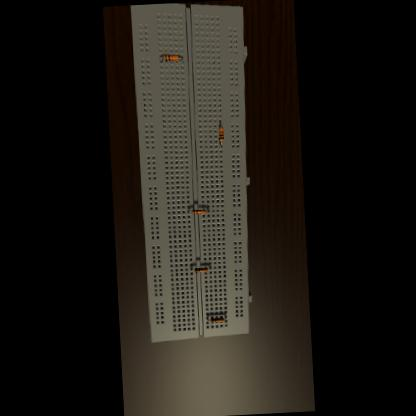breadboard: (129, 0, 261, 341)
resistor: (162, 53, 178, 61), (217, 125, 223, 140), (210, 316, 224, 322), (191, 208, 205, 213), (194, 266, 206, 271)
wire: (160, 56, 162, 61), (178, 56, 180, 61), (218, 140, 220, 145), (206, 315, 209, 318), (190, 266, 192, 270), (207, 266, 209, 269), (205, 208, 207, 210), (223, 314, 224, 318), (188, 209, 190, 210), (219, 124, 220, 126)
